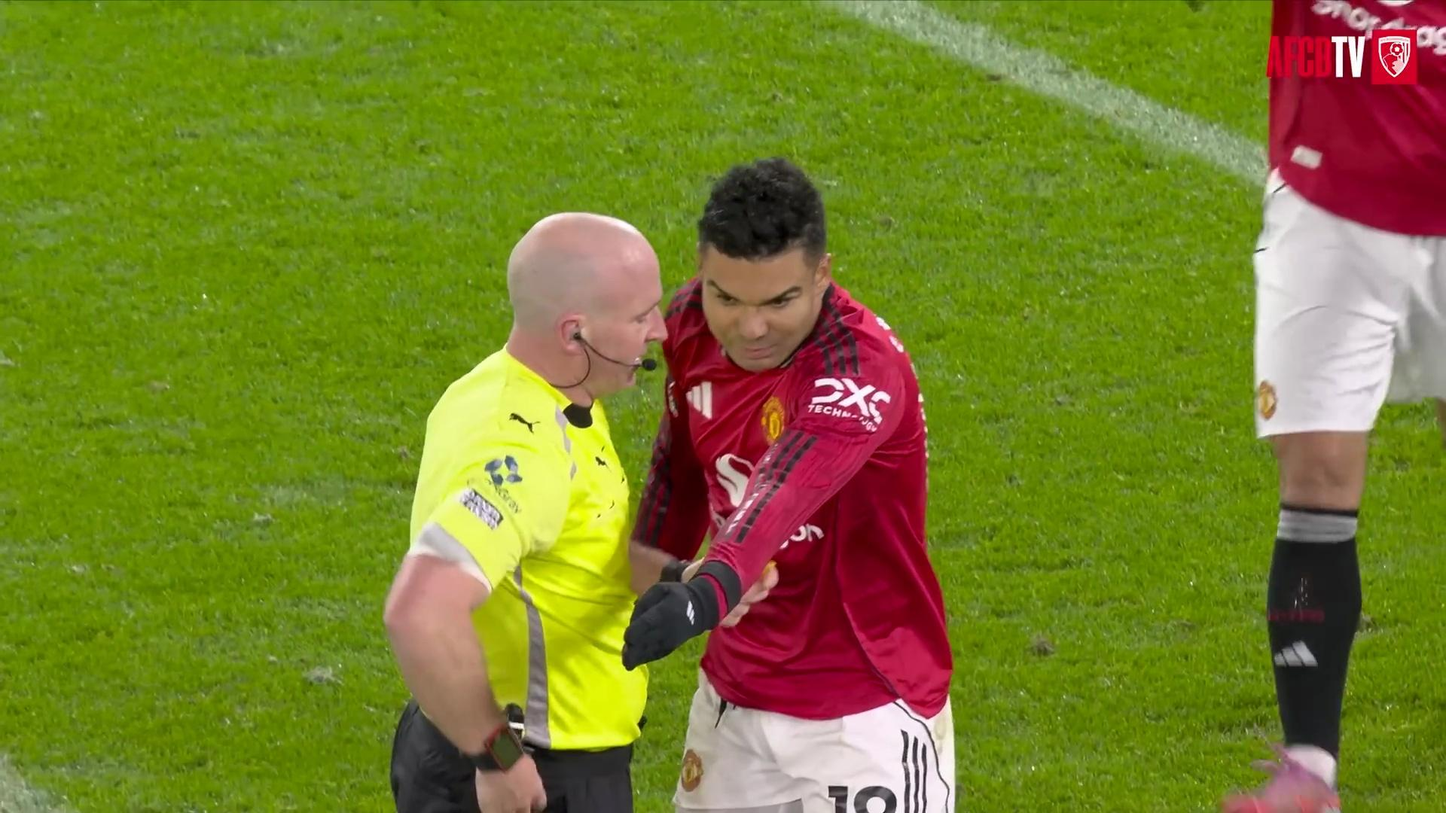player: (623, 158, 954, 812), (1223, 0, 1445, 812)
referee: (385, 213, 664, 812)
